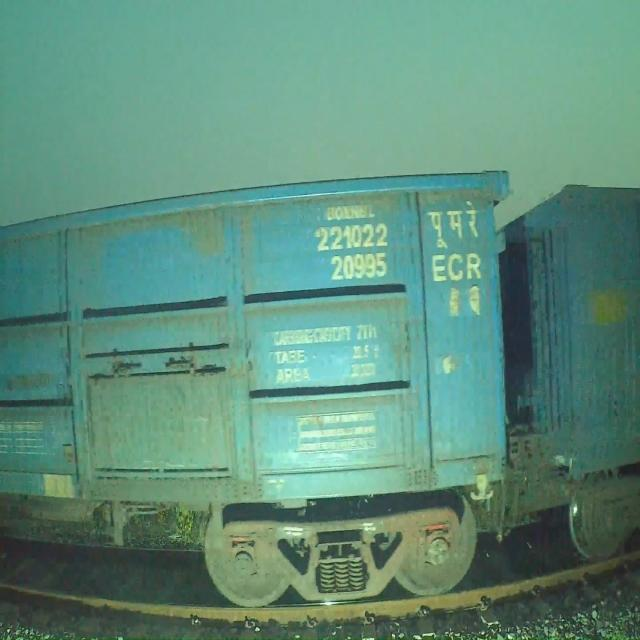WAgon-uic: (0, 166, 510, 610), (421, 183, 640, 558)
uic: (314, 220, 392, 285)
